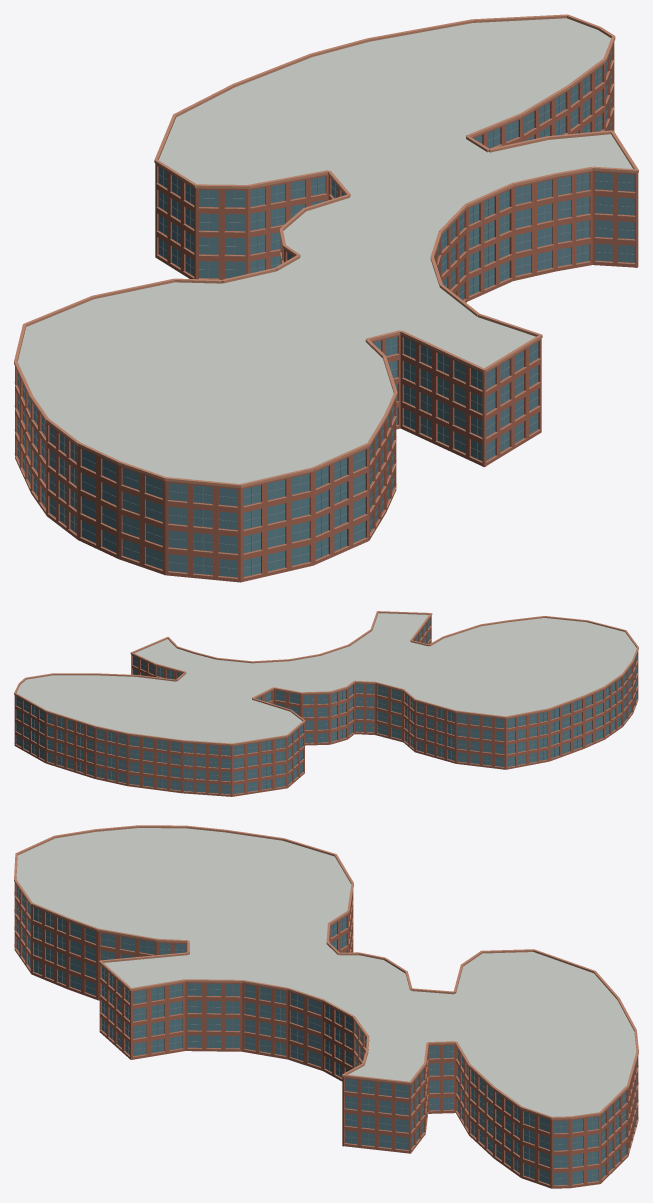
Rendered from activity.glb.
The picture shows the model from 3 angles, top to bottom: view 1: azimuth 30°, elevation 25°; view 2: azimuth 150°, elevation 25°; view 3: azimuth 270°, elevation 25°; orthographic projection. The views are drawn at different scales.
Visible parts, largest first — view 1: roof, wall, glass, trim, metal; view 2: roof, wall, glass, trim, metal; view 3: roof, wall, glass, trim, metal.
Part boxes in pixels (<box>): roof: <box>17,18,632,483</box>; wall: <box>15,42,638,582</box>; glass: <box>17,48,634,577</box>; trim: <box>14,14,638,579</box>; metal: <box>17,52,634,576</box>; roof: <box>16,613,636,743</box>; wall: <box>14,616,638,796</box>; glass: <box>16,618,636,794</box>; trim: <box>14,611,638,794</box>; metal: <box>16,620,637,792</box>; roof: <box>16,828,636,1116</box>; wall: <box>14,882,638,1188</box>; glass: <box>16,886,636,1185</box>; trim: <box>14,825,638,1186</box>; metal: <box>16,888,636,1184</box>.
Bounding box in the file's own units: 144 × 16.34 × 130.
